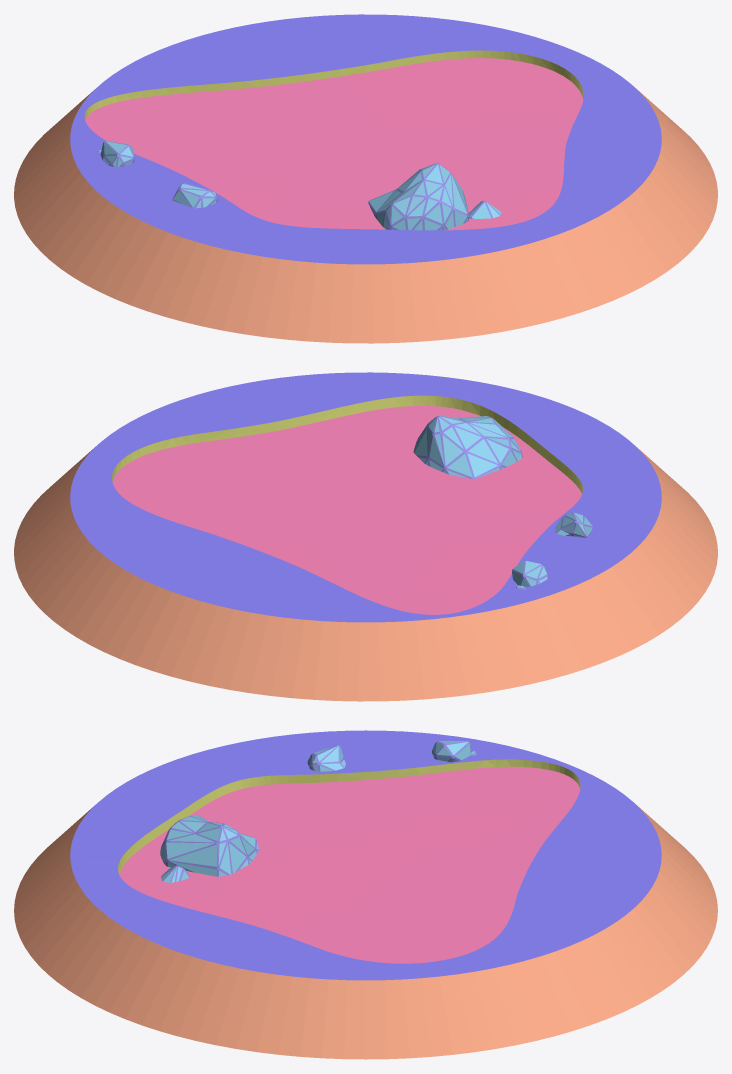
Rendered from MilkPond.fbx.
3 views of the same model, one above another, from view 1: azimuth 30°, elevation 25°; view 2: azimuth 150°, elevation 25°; view 3: azimuth 270°, elevation 25° (orthographic).
Visible parts, largest first — view 1: MilkPond; view 2: MilkPond; view 3: MilkPond.
Boxes of the visible parts, box(x1,y1,x2,y2) form: MilkPond: box(14, 14, 717, 343); MilkPond: box(14, 372, 717, 701); MilkPond: box(14, 730, 717, 1059).
Bounding box in the file's own units: 3.03 × 0.3987 × 3.03.
